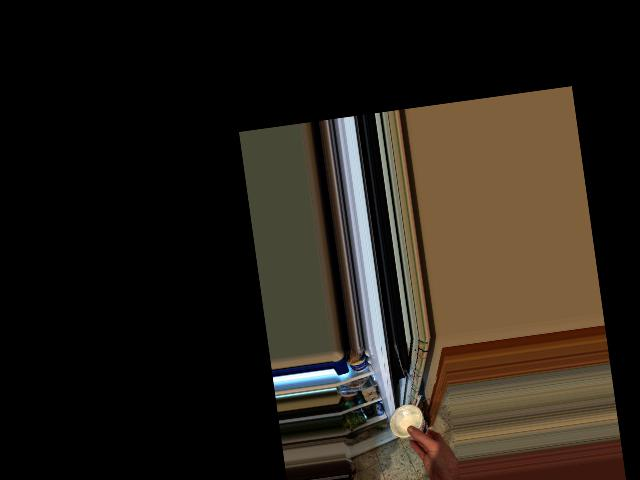cotage: (387, 400, 435, 447)
